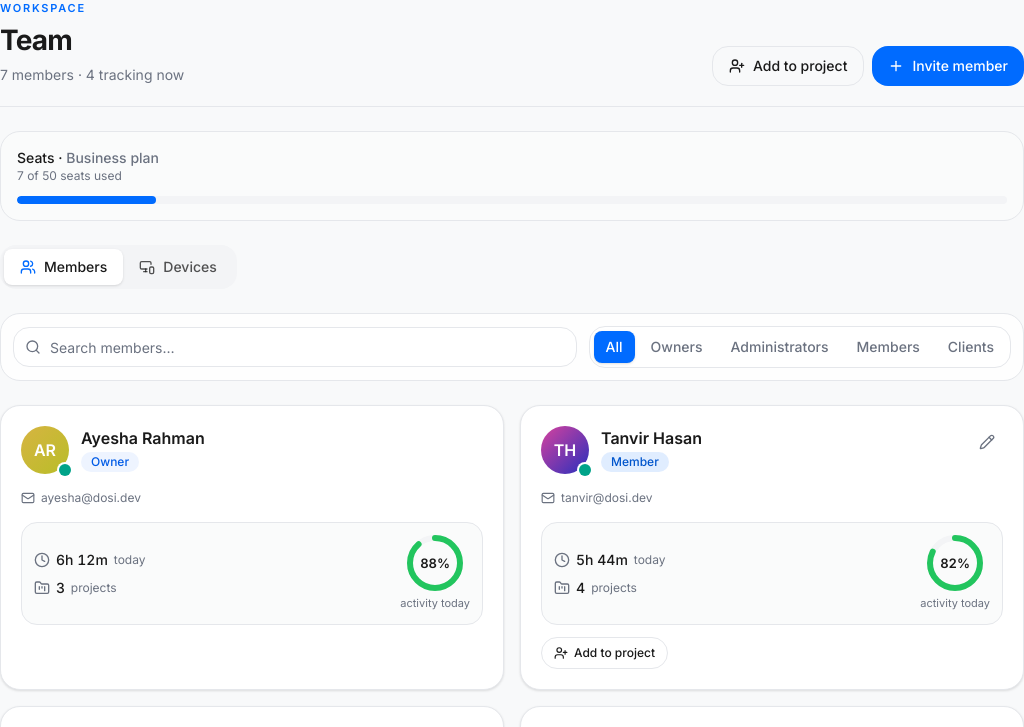
Test: team page — sending invites (demo mode) › send stays disabled until at least one email is entered
This screenshot has width=1024, height=727.
Click the button "Invite member": (948, 66) [872,46,1023,86]
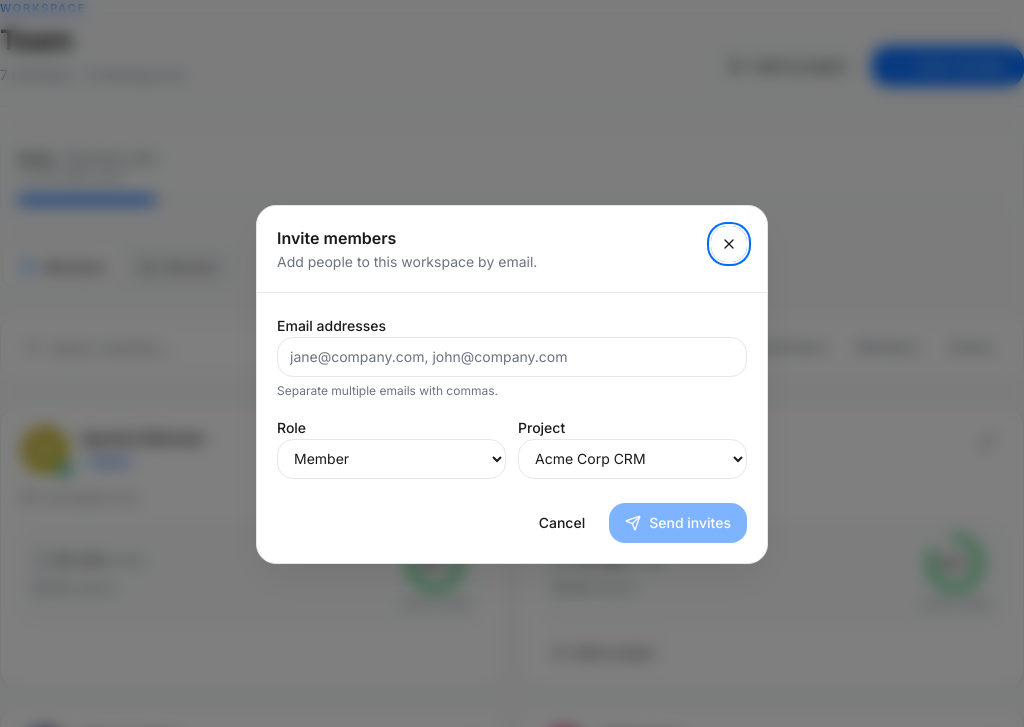
Now the button "Send invites" is disabled, box [609,502,747,542]
